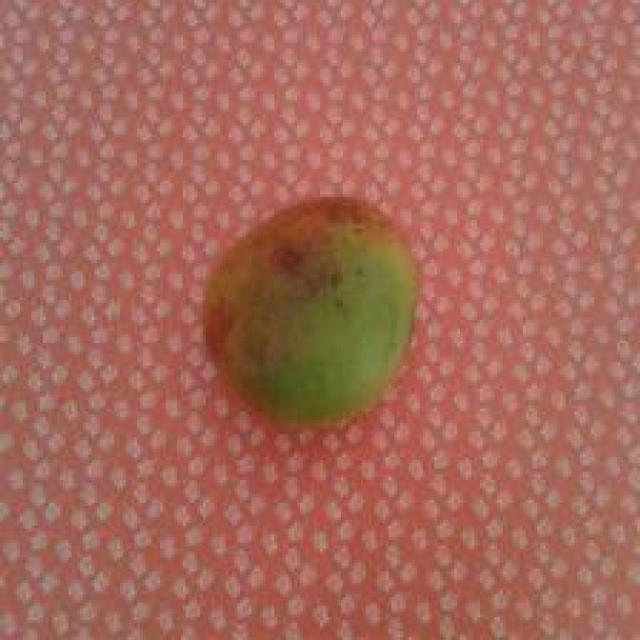mango: (200, 195, 417, 432)
